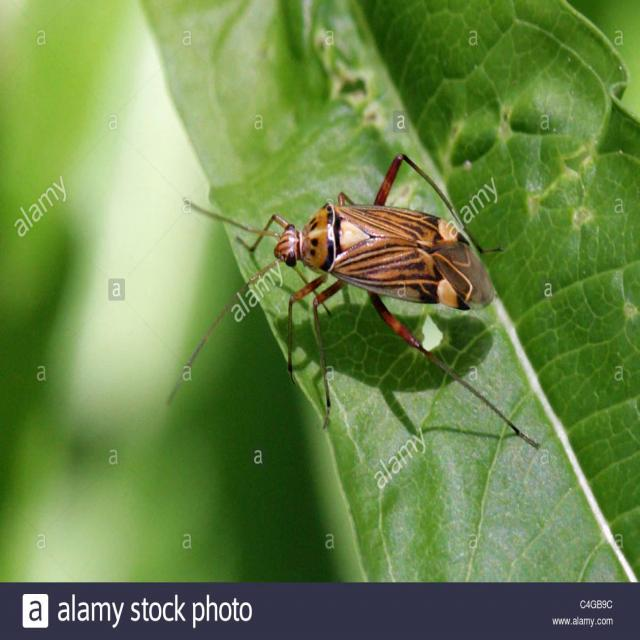Miridae-Adult-: (152, 142, 558, 462)
